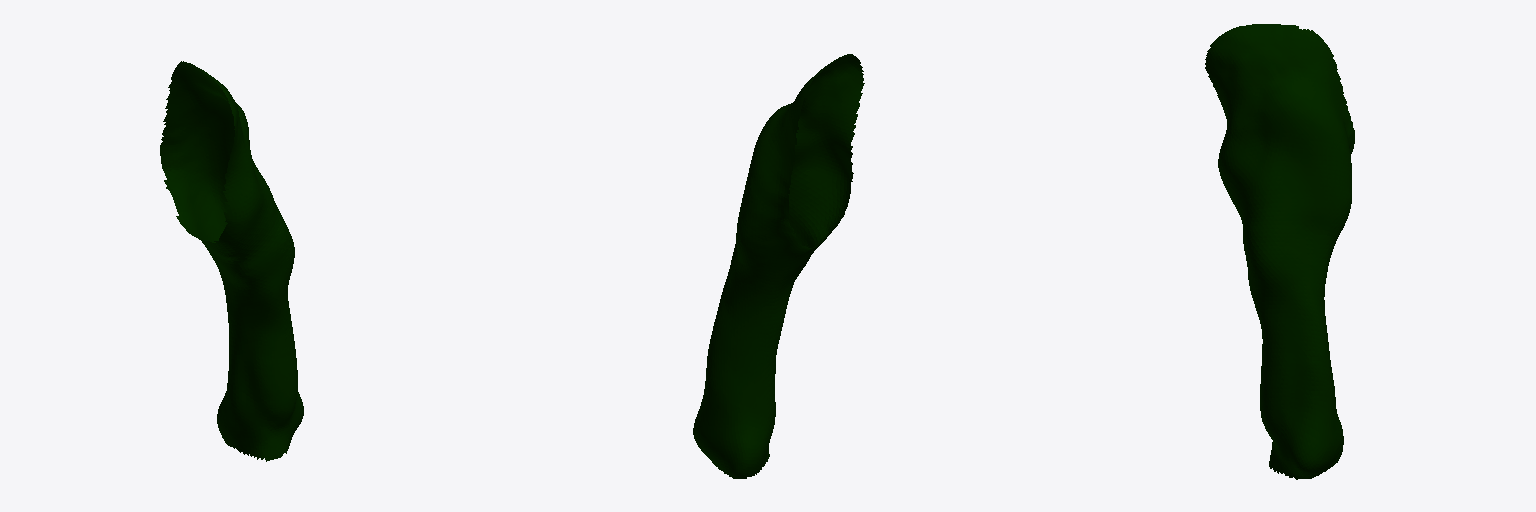
The model's file is upperB.obj.
3 renders of one model, left to right at view 1: azimuth 30°, elevation 25°; view 2: azimuth 150°, elevation 25°; view 3: azimuth 270°, elevation 25°, orthographic.
Visible parts, largest first — view 1: polySurface1 alien_12:alien; view 2: polySurface1 alien_12:alien; view 3: polySurface1 alien_12:alien.
Boxes of the visible parts, x1,y1,x2,y2 form: polySurface1 alien_12:alien: [160, 61, 303, 461]; polySurface1 alien_12:alien: [693, 54, 864, 478]; polySurface1 alien_12:alien: [1205, 24, 1354, 479].
Bounding box in the file's own units: 0.6328 × 2.07 × 0.6951.